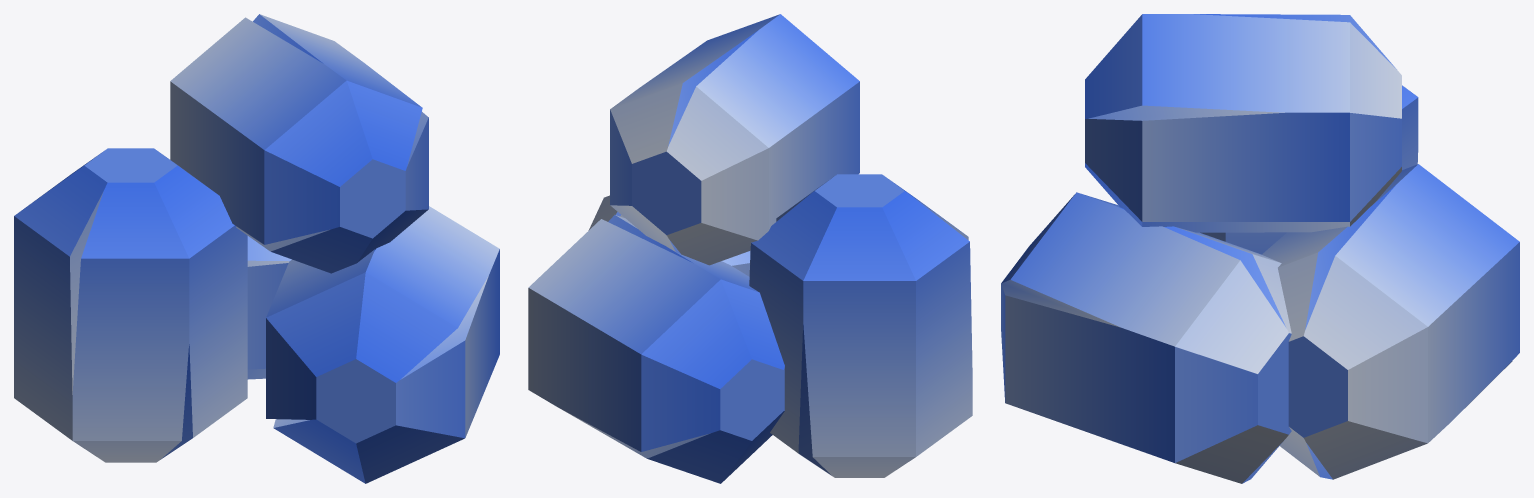
The model's file is Bloom_stome_revard.fbx.
The picture shows the model from 3 angles, left to right: view 1: azimuth 30°, elevation 25°; view 2: azimuth 150°, elevation 25°; view 3: azimuth 270°, elevation 25°; orthographic projection. The views are drawn at different scales.
Visible parts, largest first — view 1: Cylinder.023; view 2: Cylinder.023; view 3: Cylinder.023.
Boxes of the visible parts, x1,y1,x2,y2 form: Cylinder.023: (14,14,499,483); Cylinder.023: (528,14,972,483); Cylinder.023: (1001,14,1519,483).
Bounding box in the file's own units: 0.7766 × 0.7837 × 0.6954.
